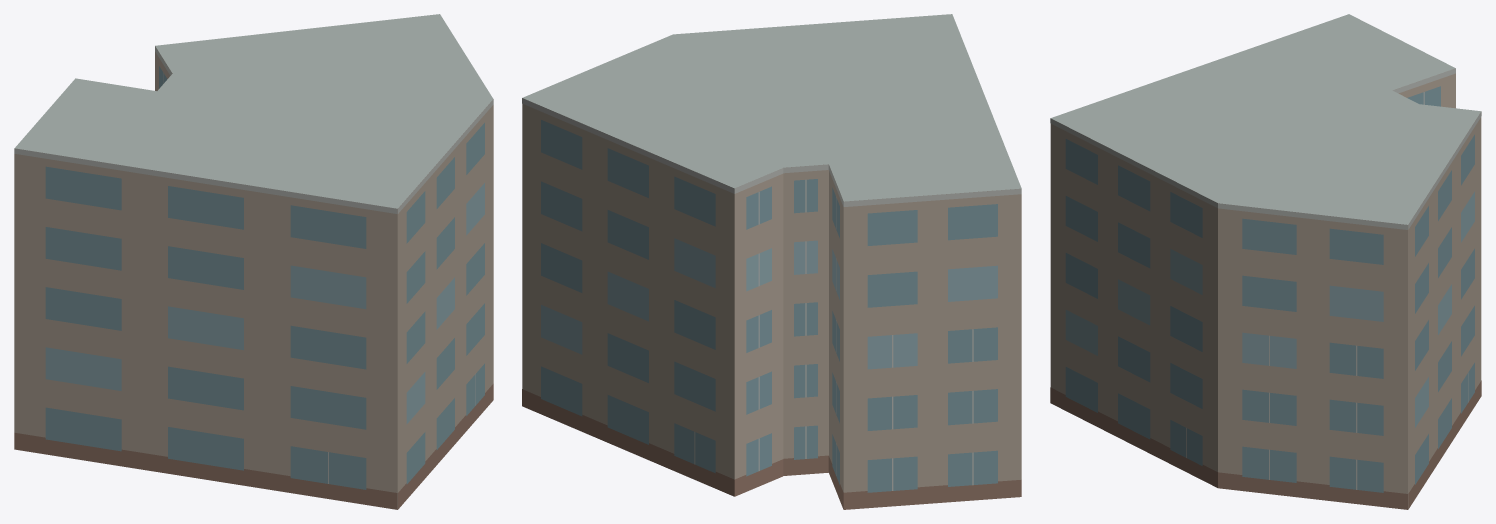
The model's file is survey-upis-32943445.glb.
3 renders of one model, left to right at view 1: azimuth 30°, elevation 25°; view 2: azimuth 150°, elevation 25°; view 3: azimuth 270°, elevation 25°, orthographic. The views are drawn at different scales.
Parts seen in each view (by area): view 1: survey-upis-32943445.tmp; view 2: survey-upis-32943445.tmp; view 3: survey-upis-32943445.tmp.
Part boxes in pixels (x1,y1,x2,y2): survey-upis-32943445.tmp: [14, 14, 493, 509]; survey-upis-32943445.tmp: [522, 14, 1021, 509]; survey-upis-32943445.tmp: [1050, 14, 1481, 509].
Size of the model in its own units: 21.36 by 13.45 by 18.44.
